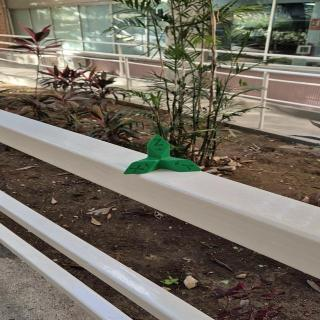eje: (122, 134, 203, 174)
